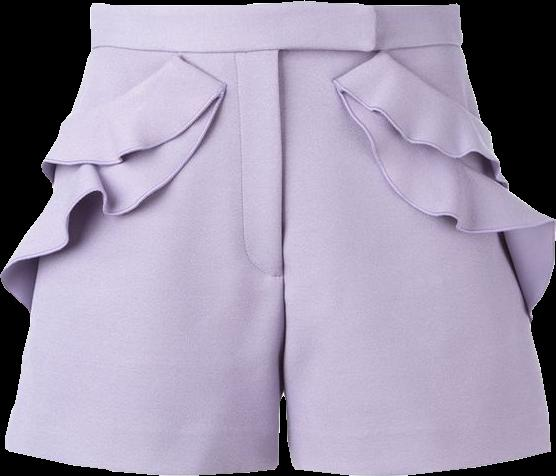Hemline: (0, 85, 227, 276), (333, 85, 551, 234), (38, 84, 226, 168), (332, 83, 499, 163), (4, 446, 277, 475), (293, 445, 551, 475)
Pantleg: (0, 2, 283, 475), (281, 0, 555, 475)
Waistline: (64, 50, 227, 121), (328, 46, 481, 119), (88, 39, 462, 54), (89, 0, 457, 11)
